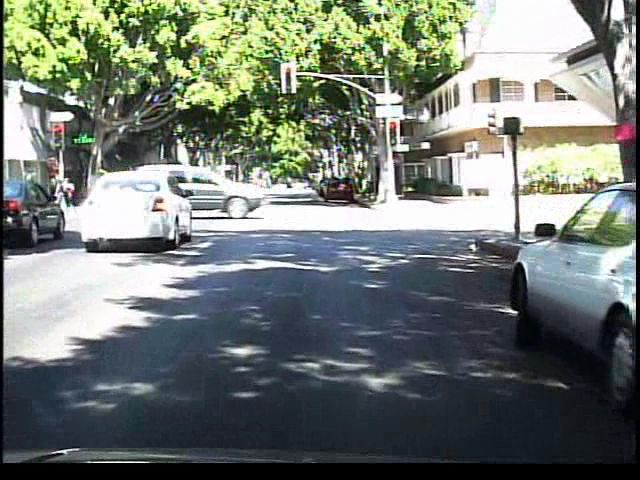person: (57, 164, 81, 211)
